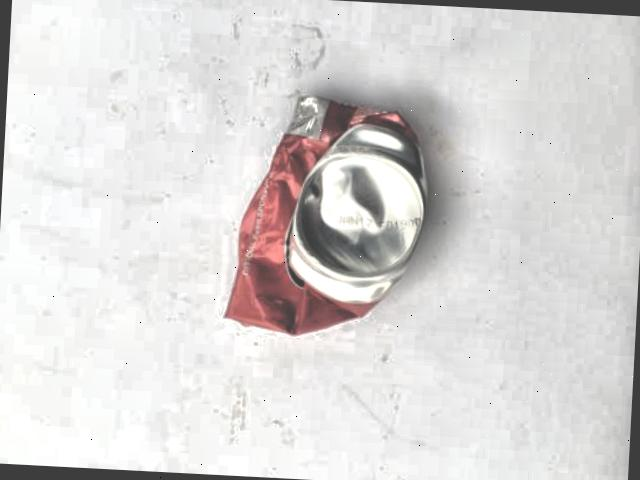Bottles: (197, 58, 458, 367)
